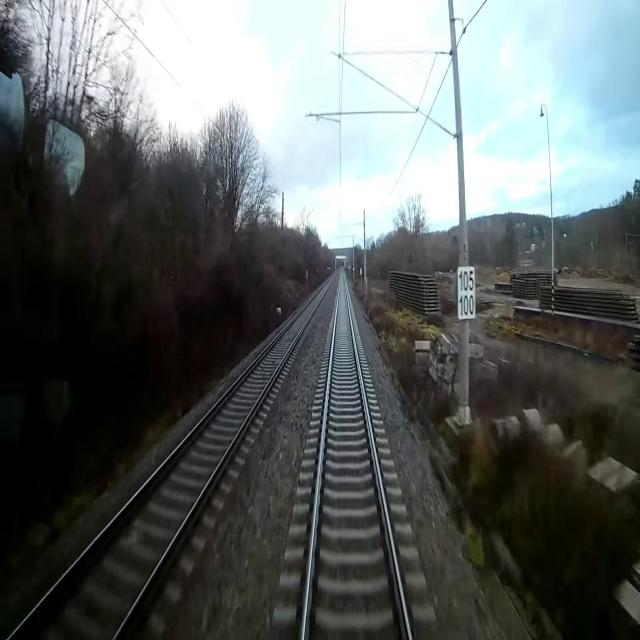rail-track: (11, 276, 333, 639), (306, 270, 408, 639)
